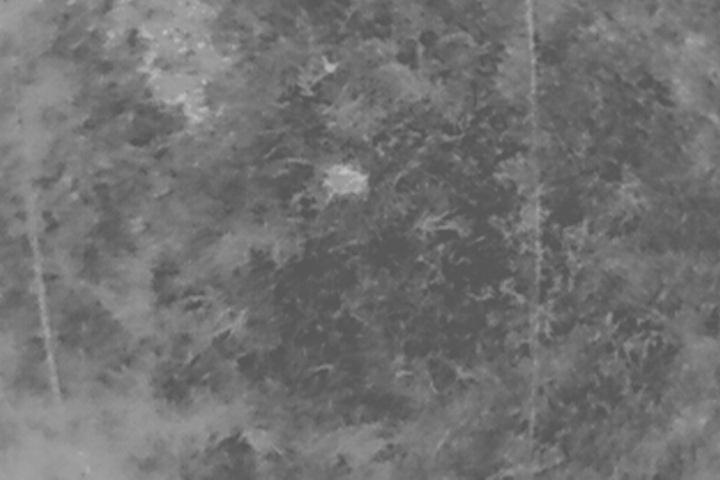landmine: (323, 163, 368, 199)
